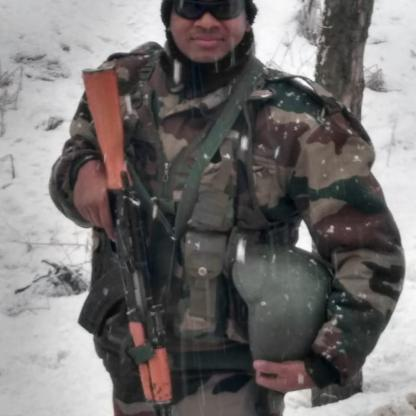rifle: (80, 64, 177, 416)
